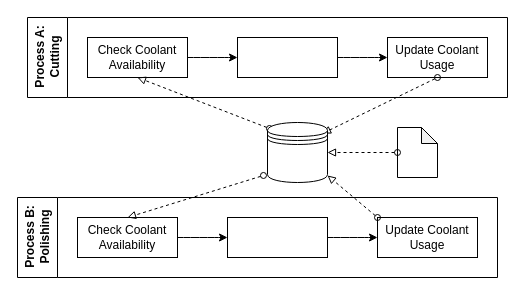
The diagram is 525 pixels wide and 295 high, and some of its shapes have lost their labels. Here are the shapes that lost their labels. From the top down, the centre of each, then its label:
(287,57): Cut Material
(297,152): Coolant Management
(277,237): Polish Material
